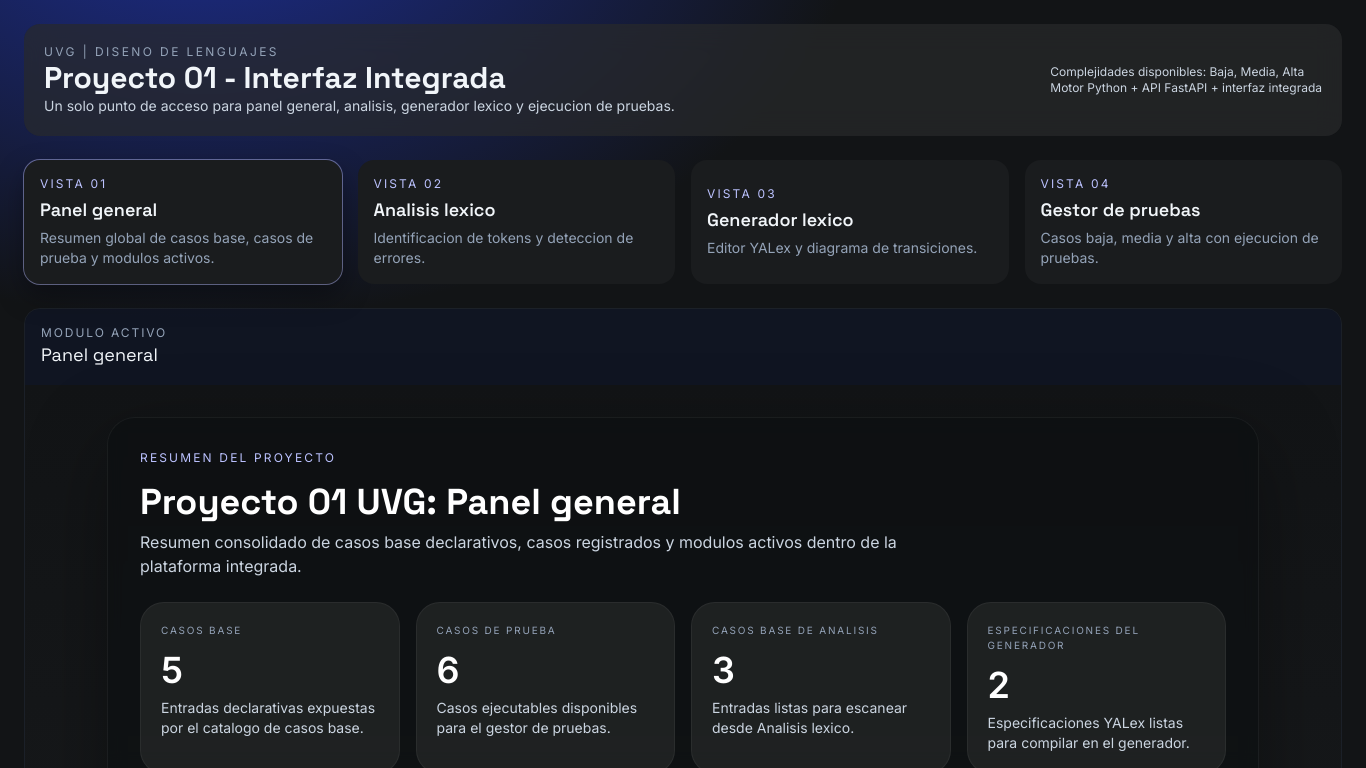
Test case: AppShell › switches the active module without using an iframe
Click the button "Generador lexico" at (850, 222), box [691,160,1008,284]
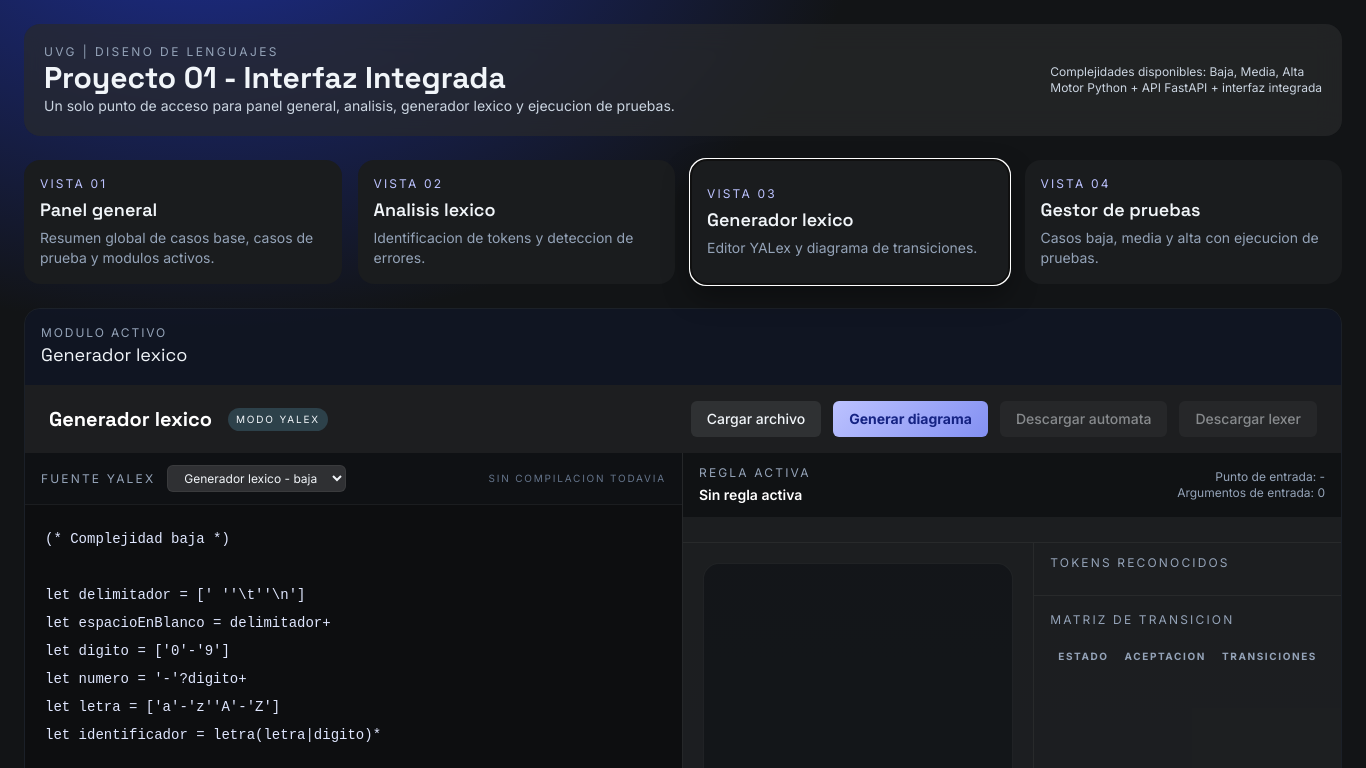
Check: the heading with test id "active-title" reads "Generador lexico", box [41,343,187,366]
Check: the button "Generar diagrama" is shown, box [833,401,988,437]
